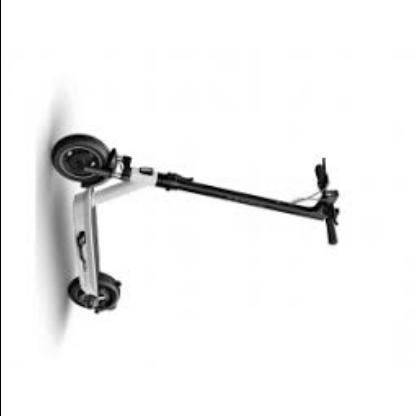bike: (49, 133, 340, 315)
